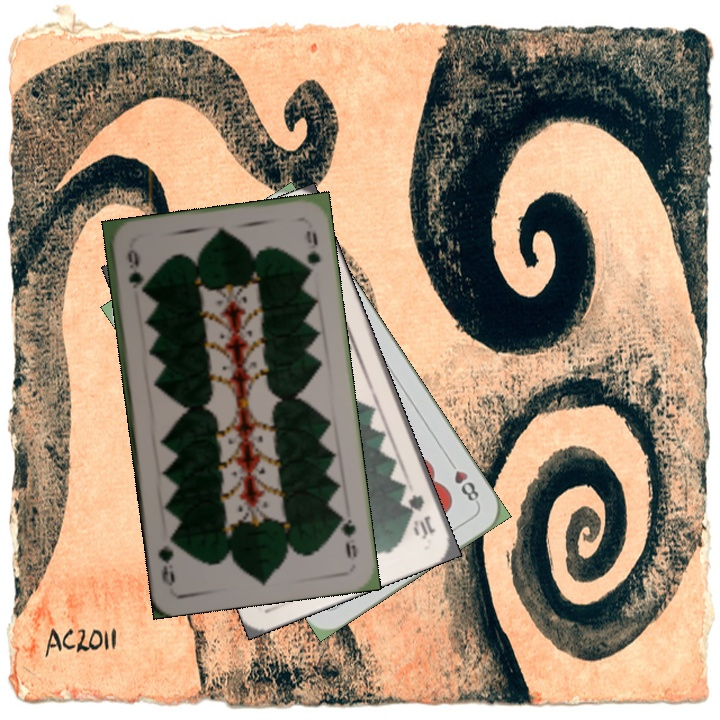G10: (404, 490, 438, 542)
G9: (334, 508, 359, 561), (123, 245, 145, 295)
H8: (444, 455, 482, 507)
